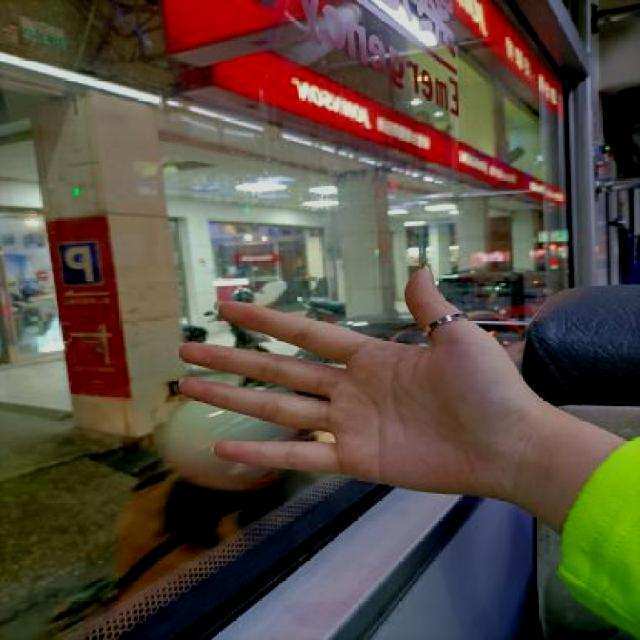no_glove: (157, 246, 560, 528)
